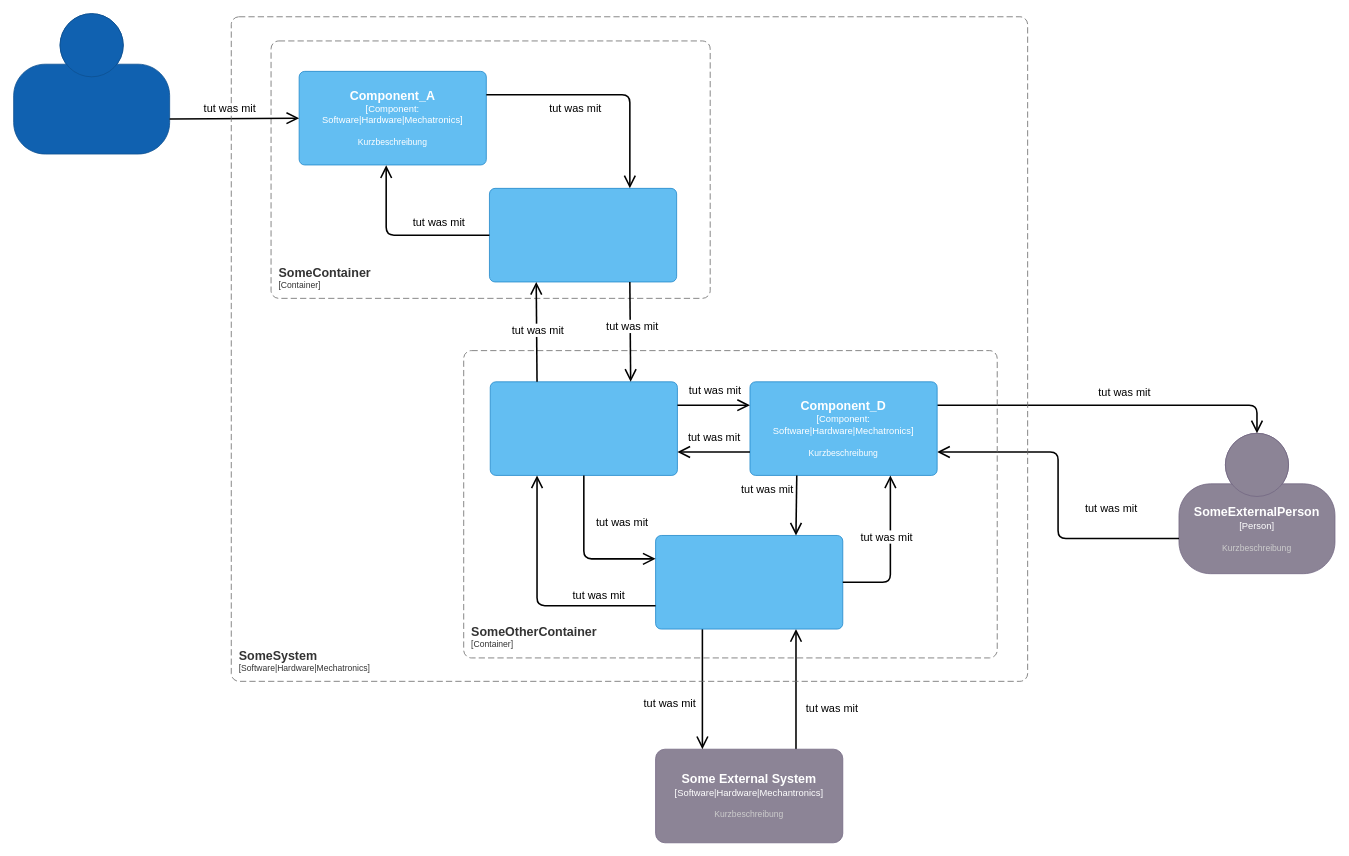
This 1349x856 diagram has some shape labels left out. Each missing label, with the centre of its shape:
"Component_B [Component: Software|Hardware|Mechatronics] Kurzbeschreibung" goes at (583,235).
"Component_C [Component: Software|Hardware|Mechatronics] Kurzbeschreibung" goes at (583,428).
"Component_E [Component: Software|Hardware|Mechatronics] Kurzbeschreibung" goes at (749,582).
"SomePerson [Person] Kurzbeschreibung" goes at (91,83).
